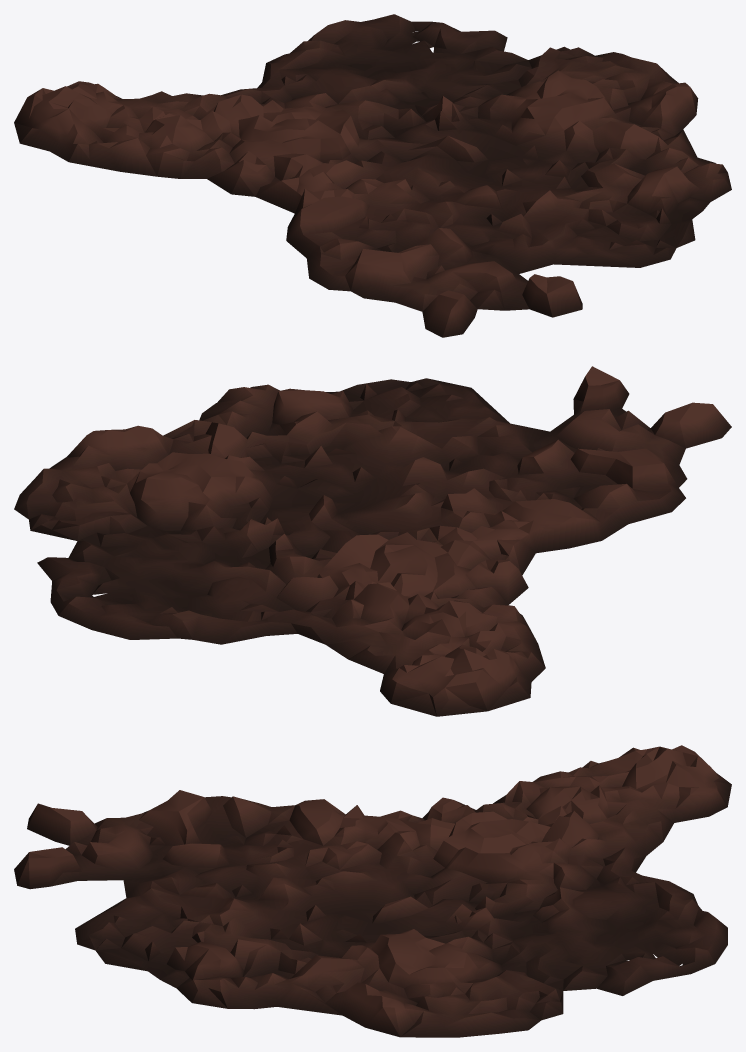
Rendered from Rubble2.glb.
3 renders of one model, top to bottom at view 1: azimuth 30°, elevation 25°; view 2: azimuth 150°, elevation 25°; view 3: azimuth 270°, elevation 25°, orthographic. The views are drawn at different scales.
Visible parts, largest first — view 1: Rubble2.col; view 2: Rubble2.col; view 3: Rubble2.col.
Part boxes in pixels (<box>): Rubble2.col: <box>14,14,731,337</box>; Rubble2.col: <box>14,366,731,716</box>; Rubble2.col: <box>14,745,731,1037</box>.
Bounding box in the file's own units: 4.64 × 0.3094 × 5.09.
1 material, 1 textured.
